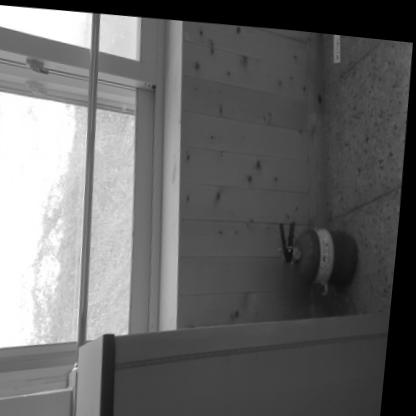FE: (279, 210, 365, 283)
